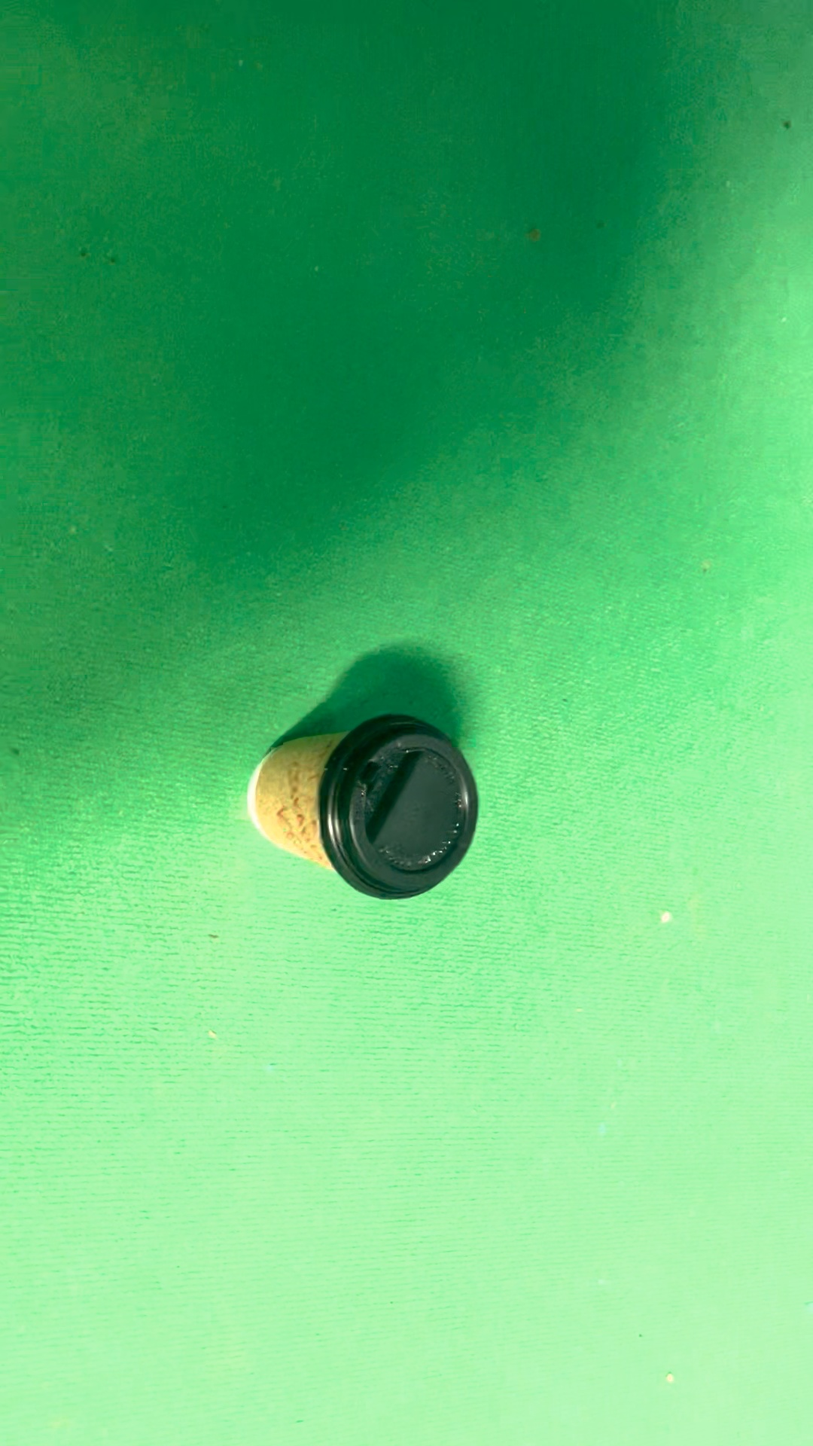cup: (408, 449, 490, 854)
